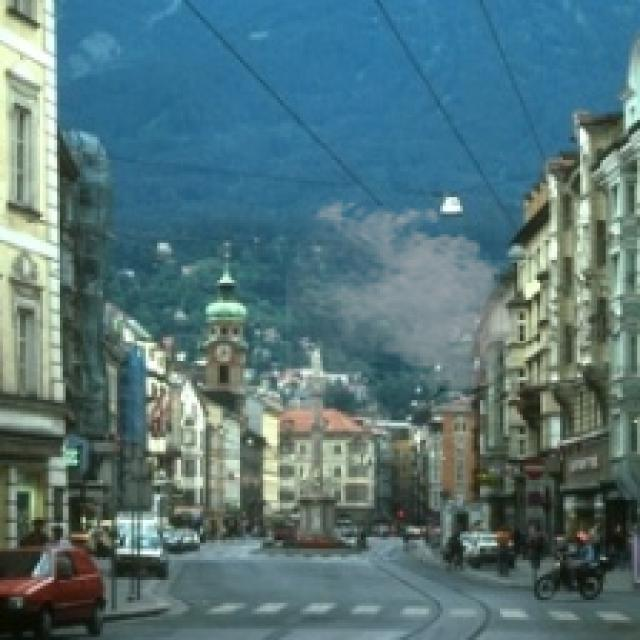Smoke: (286, 194, 534, 397)
